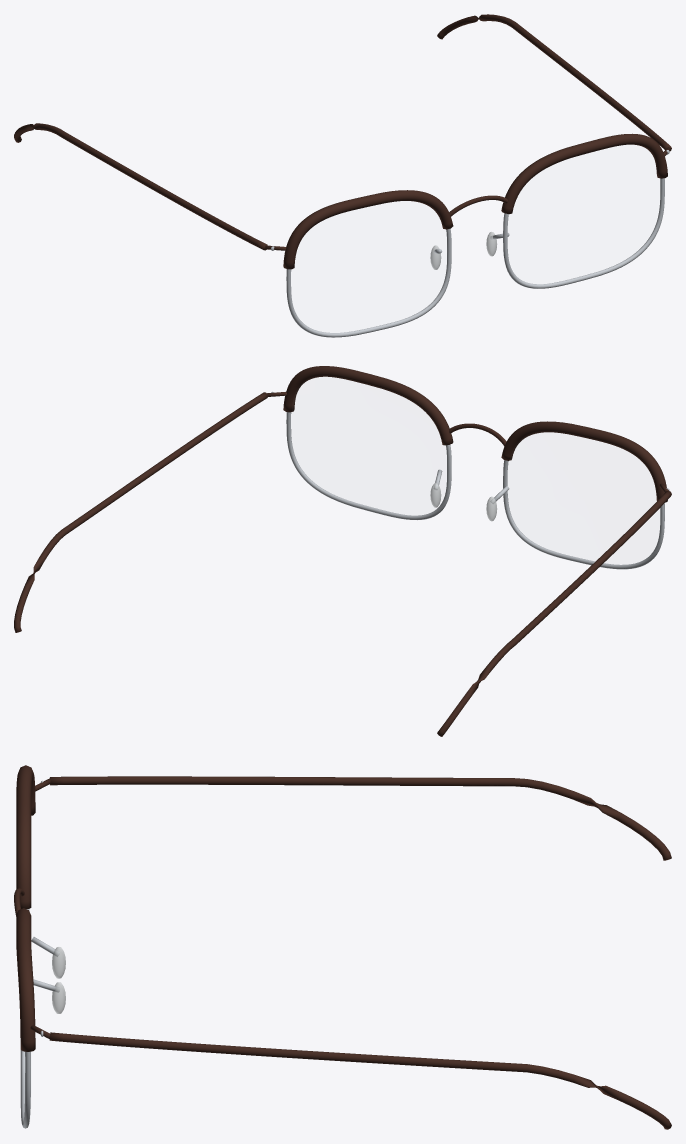
Rendered from tim-29-v1.glb.
3 renders of one model, top to bottom at view 1: azimuth 30°, elevation 25°; view 2: azimuth 150°, elevation 25°; view 3: azimuth 270°, elevation 25°, orthographic. The views are drawn at different scales.
Parts seen in each view (by area): view 1: raised_brow_right, raised_brow_left, temple_right, temple_left, rim_right, rim_left; view 2: temple_left, raised_brow_left, raised_brow_right, temple_right, rim_left, rim_right; view 3: temple_right, temple_left, raised_brow_right, raised_brow_left, rim_left.
Boxes of the visible parts, x1,y1,x2,y2 form: raised_brow_right: (283,190,453,269); raised_brow_left: (501,133,667,214); temple_right: (14,123,267,250); temple_left: (437,14,671,151); rim_right: (286,228,451,337); rim_left: (503,178,664,288); temple_left: (14,392,267,632); raised_brow_left: (283,366,453,445); raised_brow_right: (501,421,667,502); temple_right: (437,490,671,736); rim_left: (286,412,451,520); rim_right: (503,460,664,569); temple_right: (49,776,671,860); temple_left: (49,1032,671,1129); raised_brow_right: (16,765,35,908); raised_brow_left: (16,908,35,1051); rim_left: (20,1050,30,1128).
Bounding box in the file's own units: 0.155 × 0.0446 × 0.1492.
